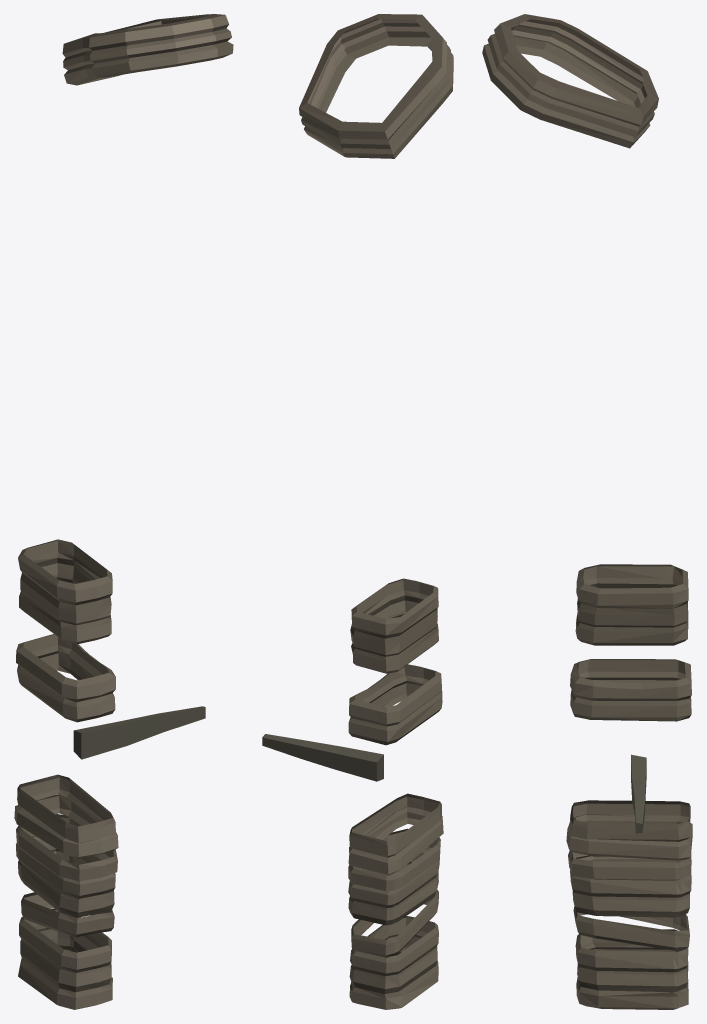
File: largeBowSimpleHandle.glb
3 views of the same model, side by side, from view 1: azimuth 30°, elevation 25°; view 2: azimuth 150°, elevation 25°; view 3: azimuth 270°, elevation 25° (orthographic). The views are drawn at different scales.
Visible parts, largest first — view 1: largeBowSimpleHandle; view 2: largeBowSimpleHandle; view 3: largeBowSimpleHandle.
Part boxes in pixels (x1,y1,x2,y2): largeBowSimpleHandle: (14,14,233,1009); largeBowSimpleHandle: (262,14,453,1009); largeBowSimpleHandle: (482,14,692,1009).
Bounding box in the file's own units: 0.1136 × 0.6459 × 0.124.
